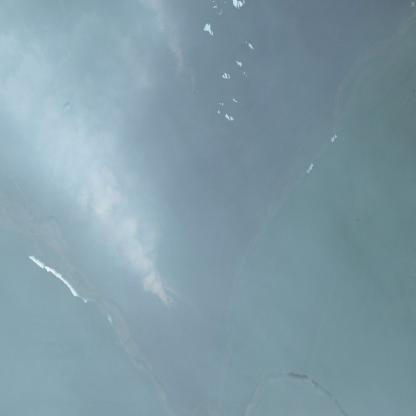fire: (94, 200, 182, 332), (143, 19, 202, 98)
